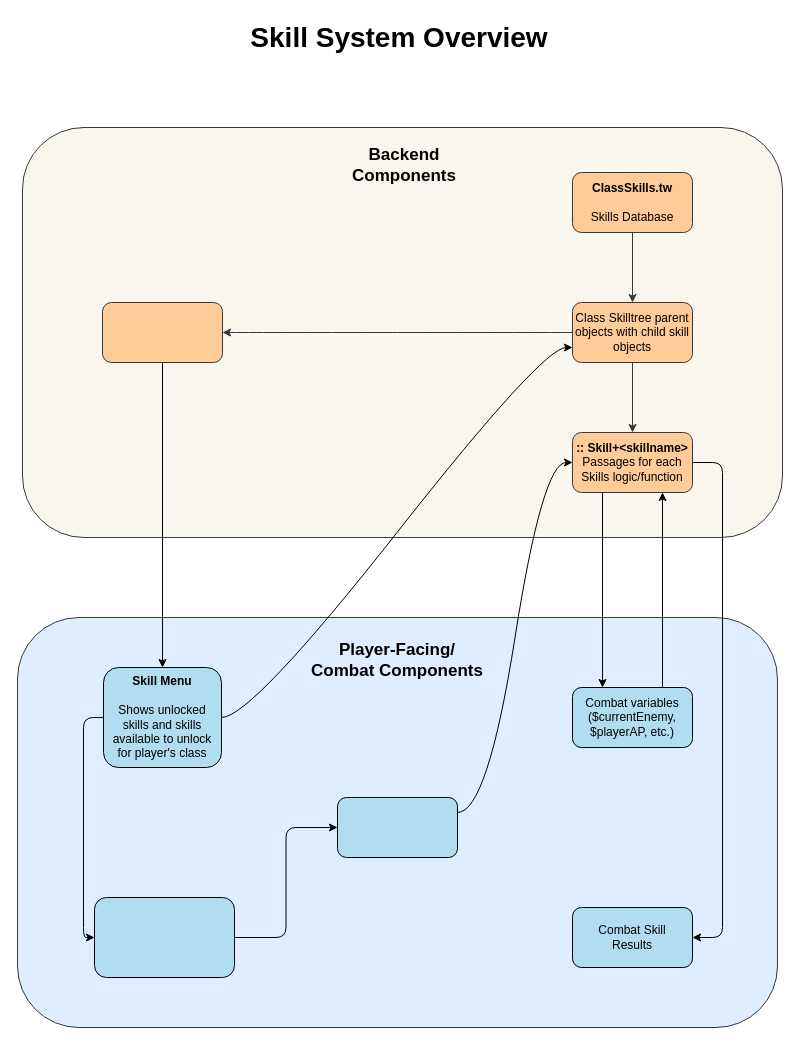
The diagram is 800 pixels wide and 1045 high, and some of its shapes have lost their labels. The shapes that lost their labels are listed below. From the top down, each one's centre as x and y in pixels, then its label:
At pixel 162 332: "$playerSkills [] Player Skills array".
At pixel 397 827: "Player uses skill during CombatTurn".
At pixel 164 937: "Use Skill (combat option) Unlocked skills available during combat".
